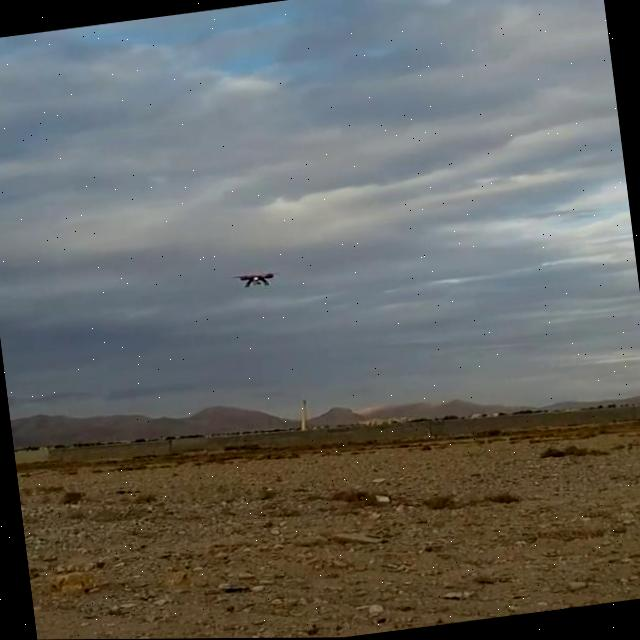drone: (228, 266, 284, 295)
